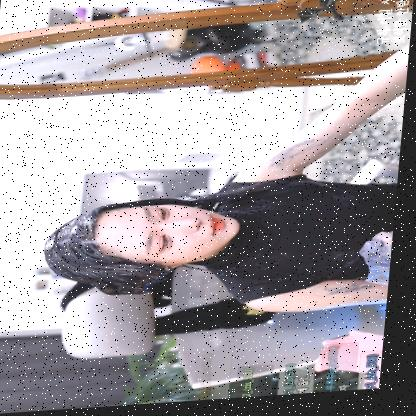streamer: (40, 34, 412, 331)
